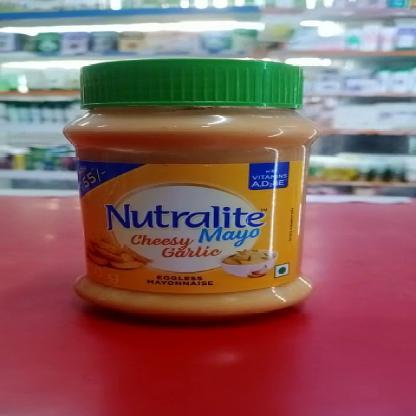Nutralite CHEESY GARLIC MAYO 300g-275g-25g-: (84, 67, 302, 300)
